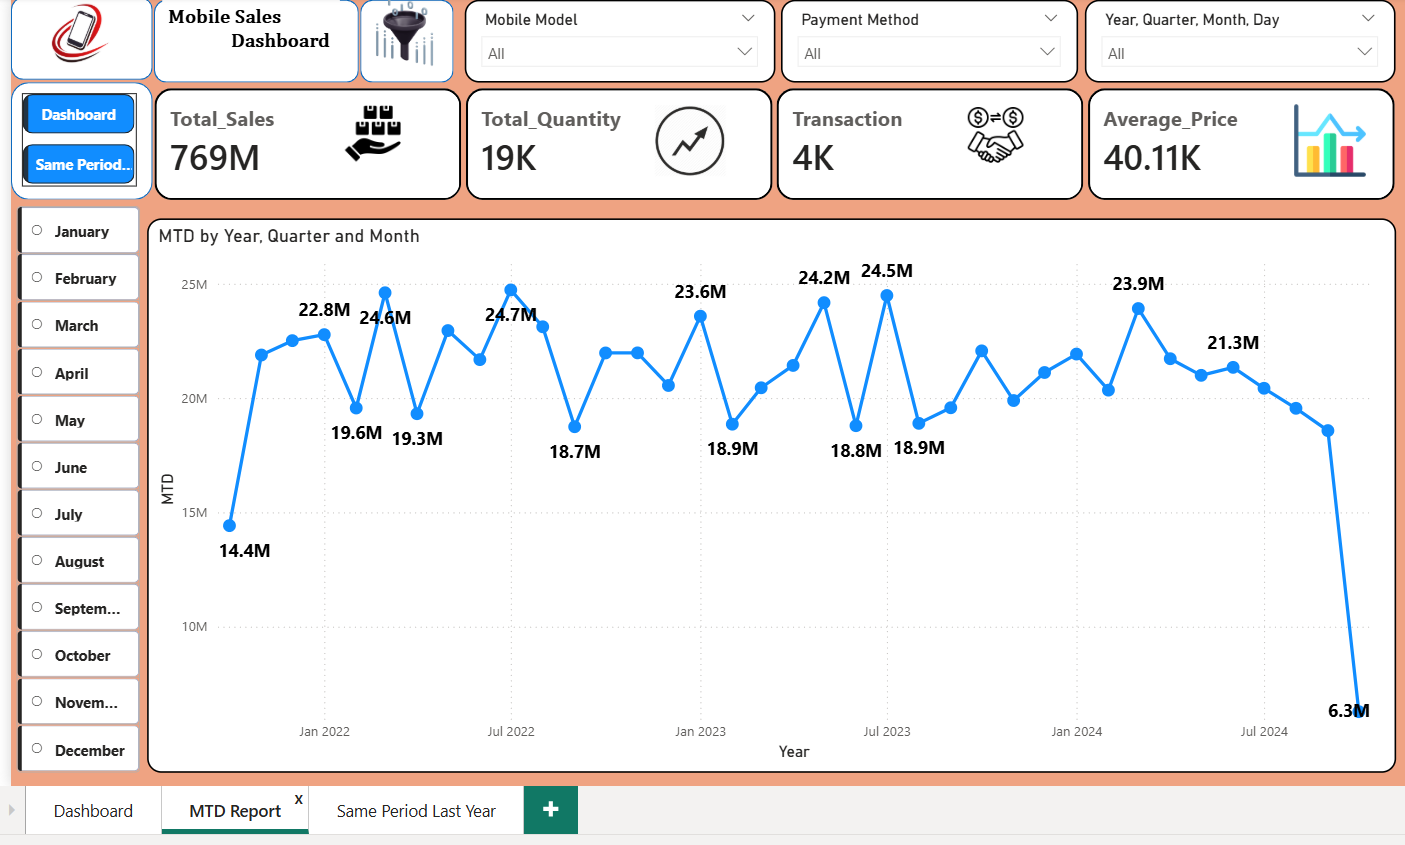

The page's visual inventory and layout, read from the dashboard file:
{"tool":"powerbi","page":{"name":"MTD Report","canvas":[1280,720],"ordinal":1},"visuals":[{"type":"shape","box":[0,0,129.3,75.6],"z":0},{"type":"image","box":[31.6,0,64.6,66],"z":1000},{"type":"shape","box":[0,78.4,129.3,107.3],"z":2000},{"type":"cardVisual","fields":{"Data":["Sales_Data.Total_Sales","Sales_Data.Total_Quantity","Sales_Data.Transaction","Sales_Data.Average_Price"]},"box":[114.1,66,1166.2,136.2],"z":3000},{"type":"image","box":[286.1,97.6,88,53.6],"z":4000},{"type":"image","box":[825.2,100.4,148.5,50.9],"z":5000},{"type":"image","box":[1164.9,97.6,78.4,66],"z":6000},{"type":"image","box":[576.2,97.6,88,66],"z":7000},{"type":"slicer","fields":{"Values":["Sales_Data.Mobile Model"]},"box":[414,2.8,283.3,75.6],"z":8000},{"type":"slicer","fields":{"Values":["Sales_Data.Payment Method"]},"box":[702.8,2.8,270.9,75.6],"z":9000},{"type":"slicer","fields":{"Values":["Custom_Calender.Date.Variation.Date Hierarchy.Year","Custom_Calender.Date.Variation.Date Hierarchy.Quarter","Custom_Calender.Date.Variation.Date Hierarchy.Month","Custom_Calender.Date.Variation.Date Hierarchy.Day"]},"box":[980.6,2.8,283.3,75.6],"z":10000},{"type":"shape","box":[319.1,2.8,85.3,75.6],"z":11000},{"type":"image","box":[313.6,0,90.8,63.3],"z":12000},{"type":"shape","box":[130.7,2.8,187,75.6],"z":13000},{"type":"textbox","box":[137.5,2.8,162.3,72.9],"z":14000},{"type":"lineChart","fields":{"Y":["Sales_Data.MTD"],"Category":["Custom_Calender.Date.Variation.Date Hierarchy.Year","Custom_Calender.Date.Variation.Date Hierarchy.Quarter","Custom_Calender.Date.Variation.Date Hierarchy.Month","Custom_Calender.Date.Variation.Date Hierarchy.Day"]},"box":[123.8,202.2,1140.1,506.1],"z":15000},{"type":"advancedSlicerVisual","fields":{"Values":["Custom_Calender.Date.Variation.Date Hierarchy.Month"]},"box":[0,186.4,123.8,533.6],"z":16000},{"type":"pageNavigator","box":[9.6,88,104.5,85.3],"z":17000}]}

Visuals, with their boxes on the page's 1280x720 design canvas (x1, y1, x2, y2). These are canvas units, not pixel positions in the 1405x845 screenshot, which may show the page scaled, cropped or inside an application window:
shape: x1=0, y1=0, x2=129, y2=76
image: x1=32, y1=0, x2=96, y2=66
shape: x1=0, y1=78, x2=129, y2=186
cardVisual - Sales_Data.Total_Sales x Sales_Data.Total_Quantity: x1=114, y1=66, x2=1280, y2=202
image: x1=286, y1=98, x2=374, y2=151
image: x1=825, y1=100, x2=974, y2=151
image: x1=1165, y1=98, x2=1243, y2=164
image: x1=576, y1=98, x2=664, y2=164
slicer - Sales_Data.Mobile Model: x1=414, y1=3, x2=697, y2=78
slicer - Sales_Data.Payment Method: x1=703, y1=3, x2=974, y2=78
slicer - Custom_Calender.Date.Variation.Date Hierarchy.Year x Custom_Calender.Date.Variation.Date Hierarchy.Quarter: x1=981, y1=3, x2=1264, y2=78
shape: x1=319, y1=3, x2=404, y2=78
image: x1=314, y1=0, x2=404, y2=63
shape: x1=131, y1=3, x2=318, y2=78
textbox: x1=138, y1=3, x2=300, y2=76
lineChart - Sales_Data.MTD x Custom_Calender.Date.Variation.Date Hierarchy.Year: x1=124, y1=202, x2=1264, y2=708
advancedSlicerVisual - Custom_Calender.Date.Variation.Date Hierarchy.Month: x1=0, y1=186, x2=124, y2=720
pageNavigator: x1=10, y1=88, x2=114, y2=173
